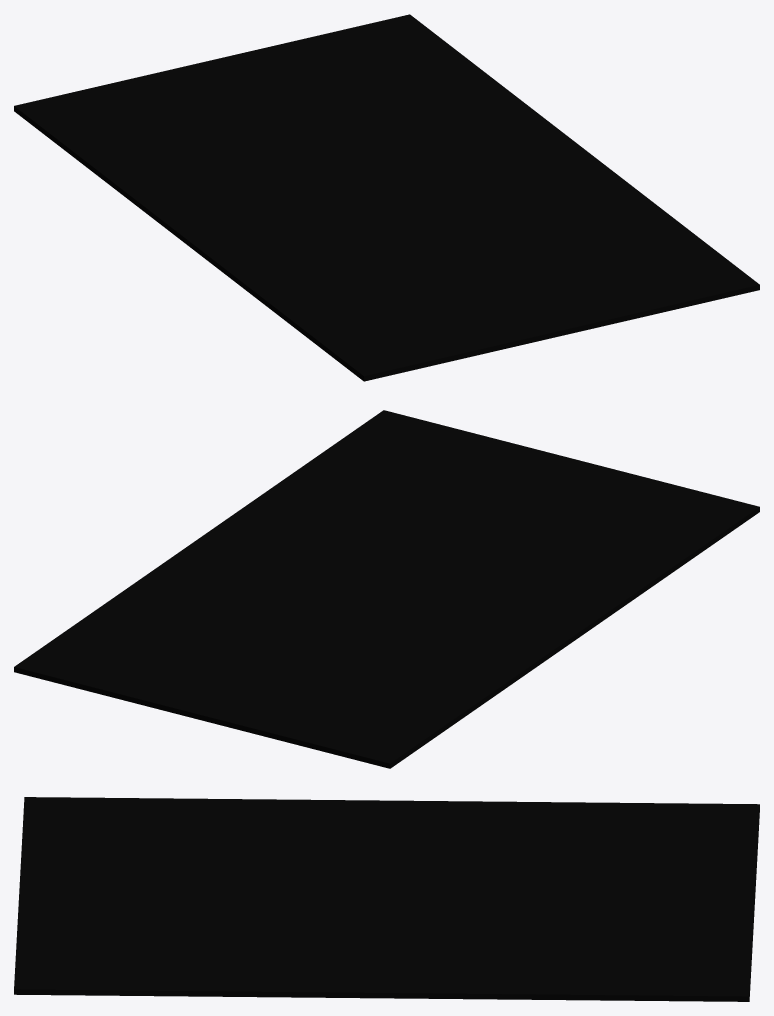
Rendered from Rug.fbx.
3 views of the same model, one above another, from view 1: azimuth 30°, elevation 25°; view 2: azimuth 150°, elevation 25°; view 3: azimuth 270°, elevation 25° (orthographic). The views are drawn at different scales.
Visible parts, largest first — view 1: node_id5; view 2: node_id5; view 3: node_id5.
Boxes of the visible parts, x1,y1,x2,y2 form: node_id5: (14, 14, 759, 381); node_id5: (14, 410, 759, 768); node_id5: (14, 797, 759, 1001).
Size of the model in its own units: 0.512 by 0.00643 by 0.809.
Materials: 1 (1 with a texture image).
